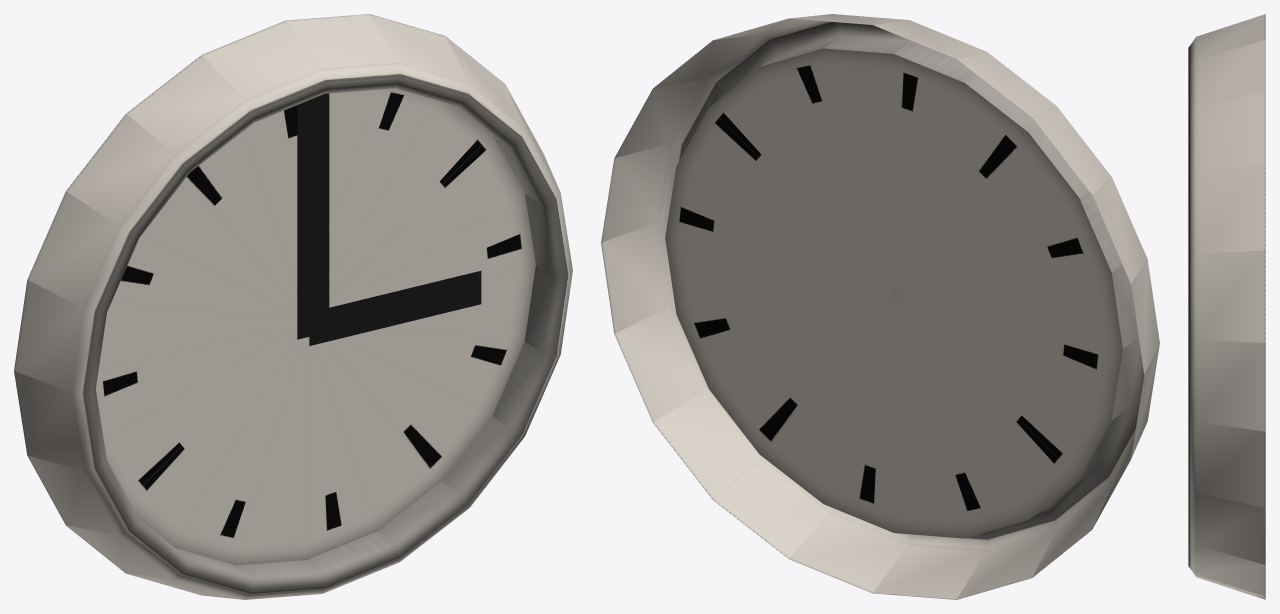
File: clock2.fbx
The picture shows the model from 3 angles, left to right: view 1: azimuth 30°, elevation 25°; view 2: azimuth 150°, elevation 25°; view 3: azimuth 270°, elevation 25°; orthographic projection. The views are drawn at different scales.
Parts seen in each view (by area): view 1: CLOCK, MINUUTTIVIISARI, TUNTIVIISARI; view 2: CLOCK; view 3: CLOCK.
Boxes of the visible parts, left/top/right/bottom form: CLOCK: left=14, top=14, right=572, bottom=599; MINUUTTIVIISARI: left=297, top=93, right=329, bottom=339; TUNTIVIISARI: left=309, top=271, right=481, bottom=345; CLOCK: left=601, top=14, right=1159, bottom=599; CLOCK: left=1188, top=14, right=1265, bottom=599.
Bounding box in the file's own units: 0.6862 × 0.6862 × 0.0901.
2 materials, 2 textured.
